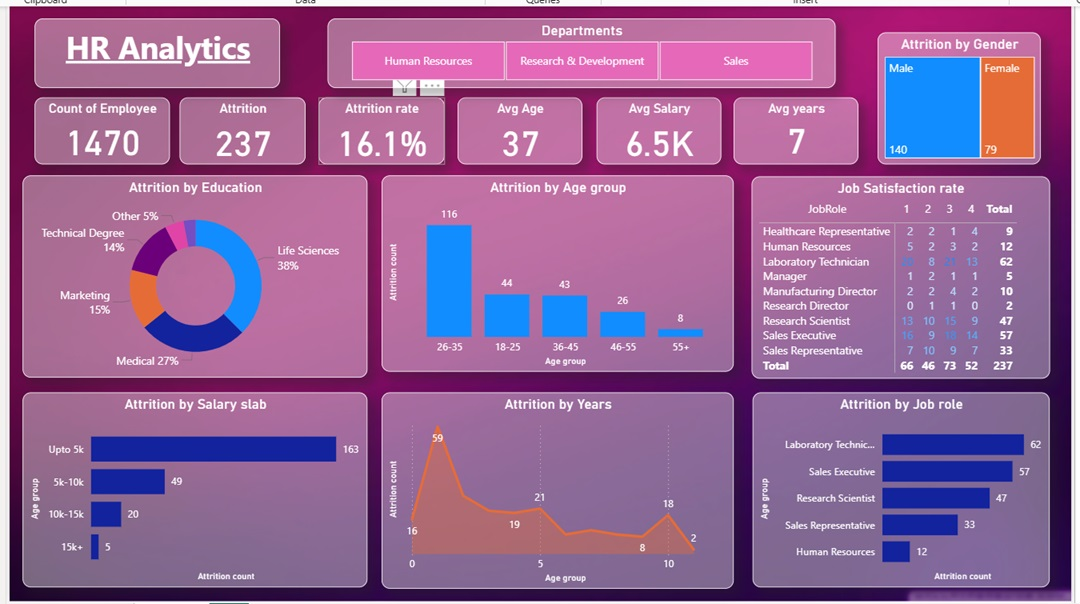

The page's visual inventory and layout, read from the dashboard file:
{"tool":"powerbi","page":{"name":"Page 1","canvas":[1280,720],"ordinal":0},"visuals":[{"type":"card","title":"Count of Employee","fields":{"Values":["Count(HR_Analytics.EmpID)"]},"box":[30.2,109.8,162.9,80.8],"z":0},{"type":"card","title":"Attrition","fields":{"Values":["Sum(HR_Analytics.Attrition Count)"]},"box":[205.1,109.8,151.7,80.9],"z":1000},{"type":"card","title":"Attrition rate","fields":{"Values":["HR_Analytics.Attrition rate"]},"box":[372.7,109.8,151.7,80.9],"z":2000},{"type":"card","title":"Avg Age","fields":{"Values":["Avg(HR_Analytics.Age)"]},"box":[540.2,109.8,150.2,80.9],"z":3000},{"type":"card","title":"Avg Salary","fields":{"Values":["Avg(HR_Analytics.MonthlyIncome)"]},"box":[707.8,109.8,150.2,80.9],"z":4000},{"type":"card","title":"Avg years","fields":{"Values":["Avg(HR_Analytics.YearsAtCompany)"]},"box":[873.9,109.8,150.2,80.9],"z":5000},{"type":"textbox","box":[30.3,14.4,296.1,83.8],"z":6000},{"type":"donutChart","title":"Attrition by Education","fields":{"Y":["Sum(HR_Analytics.Attrition Count)"],"Category":["HR_Analytics.EducationField"]},"box":[15.9,203.7,416,244.1],"z":7000},{"type":"clusteredColumnChart","title":"Attrition by Age group","fields":{"Category":["HR_Analytics.AgeGroup"],"Y":["Sum(HR_Analytics.Attrition Count)"]},"box":[449.2,203.7,424.7,236.9],"z":8000},{"type":"pivotTable","title":"Job Satisfaction rate","fields":{"Rows":["HR_Analytics.JobRole"],"Columns":["HR_Analytics.JobSatisfaction"],"Values":["Sum(HR_Analytics.Attrition Count)"]},"box":[895.5,205.1,359.7,244.1],"z":9000},{"type":"barChart","title":"Attrition by Salary slab","fields":{"Category":["HR_Analytics.SalarySlab"],"Y":["Sum(HR_Analytics.Attrition Count)"]},"box":[15.9,465.1,416,235.4],"z":10000},{"type":"barChart","title":"Attrition by Job role","fields":{"Y":["Sum(HR_Analytics.Attrition Count)"],"Category":["HR_Analytics.JobRole"]},"box":[897,465.1,358.2,235.4],"z":11000},{"type":"areaChart","title":"Attrition by Years ","fields":{"Category":["HR_Analytics.YearsAtCompany"],"Y":["Sum(HR_Analytics.Attrition Count)"]},"box":[449.2,465.1,424.7,236.9],"z":12000},{"type":"treemap","title":"Attrition by Gender","fields":{"Group":["HR_Analytics.Gender"],"Values":["Sum(HR_Analytics.Attrition Count)"]},"box":[1047.2,31.8,196.4,158.9],"z":13000},{"type":"slicer","title":"Departments","fields":{"Values":["HR_Analytics.Department"]},"box":[384.2,14.4,612.4,83.8],"z":14000}]}

Visuals, with their boxes in screenshot pixels (x1, y1, x2, y2):
"Count of Employee" card: region(20, 89, 160, 158)
"Attrition" card: region(170, 89, 301, 158)
"Attrition rate" card: region(314, 89, 445, 158)
"Avg Age" card: region(458, 89, 587, 158)
"Avg Salary" card: region(602, 89, 731, 158)
"Avg years" card: region(745, 89, 874, 158)
textbox: region(20, 7, 275, 79)
"Attrition by Education" donutChart: region(8, 169, 365, 379)
"Attrition by Age group" clusteredColumnChart: region(380, 169, 745, 373)
"Job Satisfaction rate" pivotTable: region(763, 170, 1072, 380)
"Attrition by Salary slab" barChart: region(8, 394, 365, 596)
"Attrition by Job role" barChart: region(765, 394, 1072, 596)
"Attrition by Years " areaChart: region(380, 394, 745, 597)
"Attrition by Gender" treemap: region(894, 22, 1062, 158)
"Departments" slicer: region(324, 7, 850, 79)
